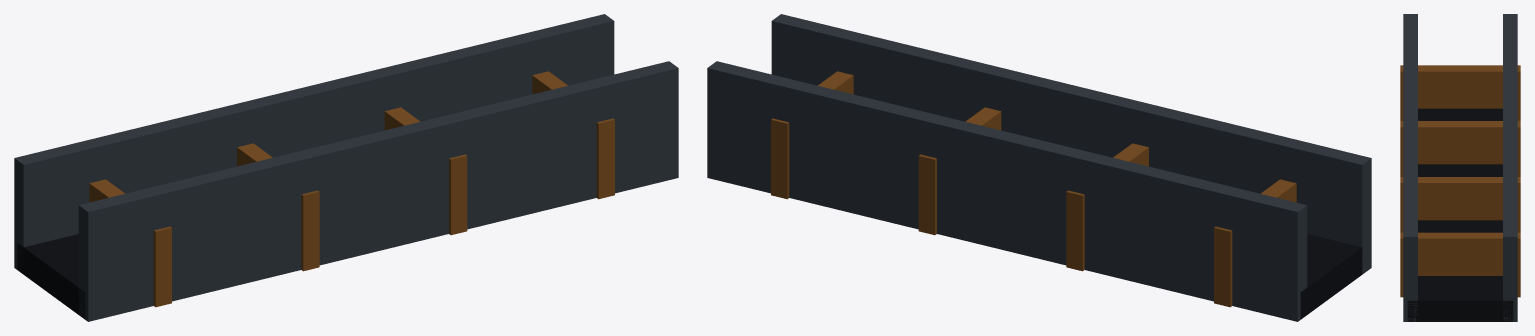
File: nf_service_trough.obj
3 views of the same model, side by side, from view 1: azimuth 30°, elevation 25°; view 2: azimuth 150°, elevation 25°; view 3: azimuth 270°, elevation 25° (orthographic). The views are drawn at different scales.
Visible parts, largest first — view 1: rear_wall, front_wall, floor, support_0.45, support_-1.35, support_1.35, support_-0.45; view 2: front_wall, rear_wall, floor, support_0.45, support_-1.35, support_1.35, support_-0.45; view 3: floor, rear_wall, front_wall, support_1.35, support_-1.35, support_-0.45, support_0.45.
Boxes of the visible parts, x1,y1,x2,y2 form: rear_wall: (78, 61, 678, 321); front_wall: (14, 14, 614, 269); floor: (17, 234, 85, 319); support_0.45: (384, 107, 467, 235); support_-1.35: (89, 179, 171, 307); support_1.35: (532, 71, 614, 199); support_-0.45: (237, 143, 319, 271); front_wall: (707, 61, 1307, 321); rear_wall: (771, 14, 1371, 274); floor: (1300, 234, 1362, 319); support_0.45: (918, 107, 1001, 235); support_-1.35: (1214, 179, 1296, 307); support_1.35: (771, 71, 853, 199); support_-0.45: (1066, 143, 1148, 271); floor: (1407, 108, 1513, 321); rear_wall: (1403, 14, 1417, 321); front_wall: (1503, 14, 1517, 321); support_1.35: (1400, 232, 1520, 297); support_-1.35: (1400, 65, 1520, 120); support_-0.45: (1400, 121, 1520, 176); support_0.45: (1400, 177, 1520, 232).
Bounding box in the file's own units: 3.6 × 0.64 × 0.82.
